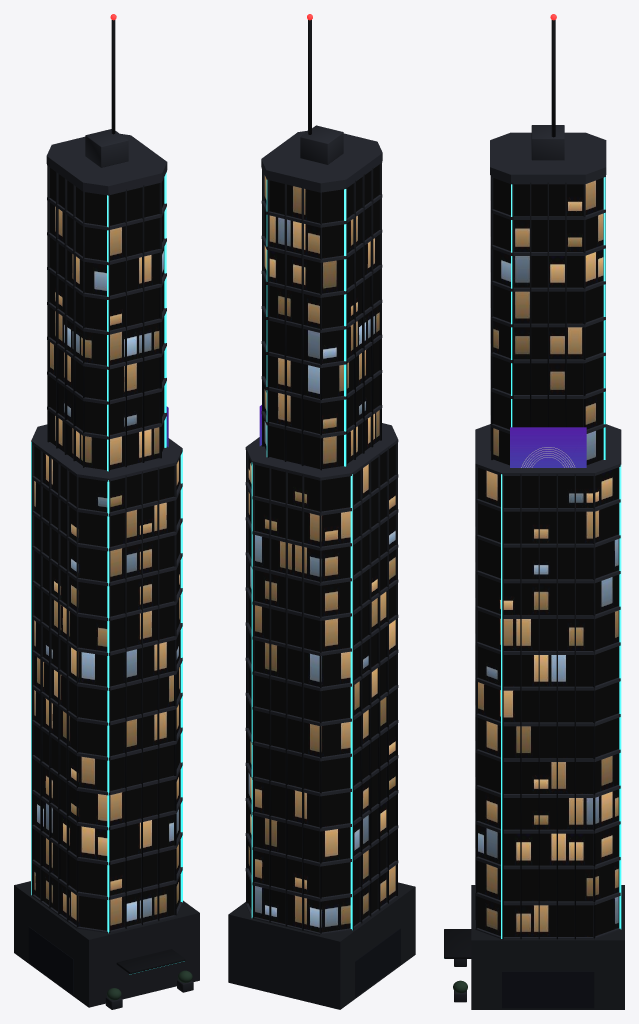
Rendered from neon-v-E.glb.
3 renders of one model, left to right at view 1: azimuth 30°, elevation 25°; view 2: azimuth 150°, elevation 25°; view 3: azimuth 270°, elevation 25°, orthographic. The views are drawn at different scales.
Parts seen in each view (by area): view 1: Building; view 2: Building; view 3: Building.
Boxes of the visible parts, bbox=[...] form: Building: bbox=[14, 14, 199, 1009]; Building: bbox=[228, 14, 415, 1009]; Building: bbox=[444, 14, 624, 1009].
Size of the model in its own units: 12.1 by 97.9 by 16.5.
9 materials, 2 textured.
